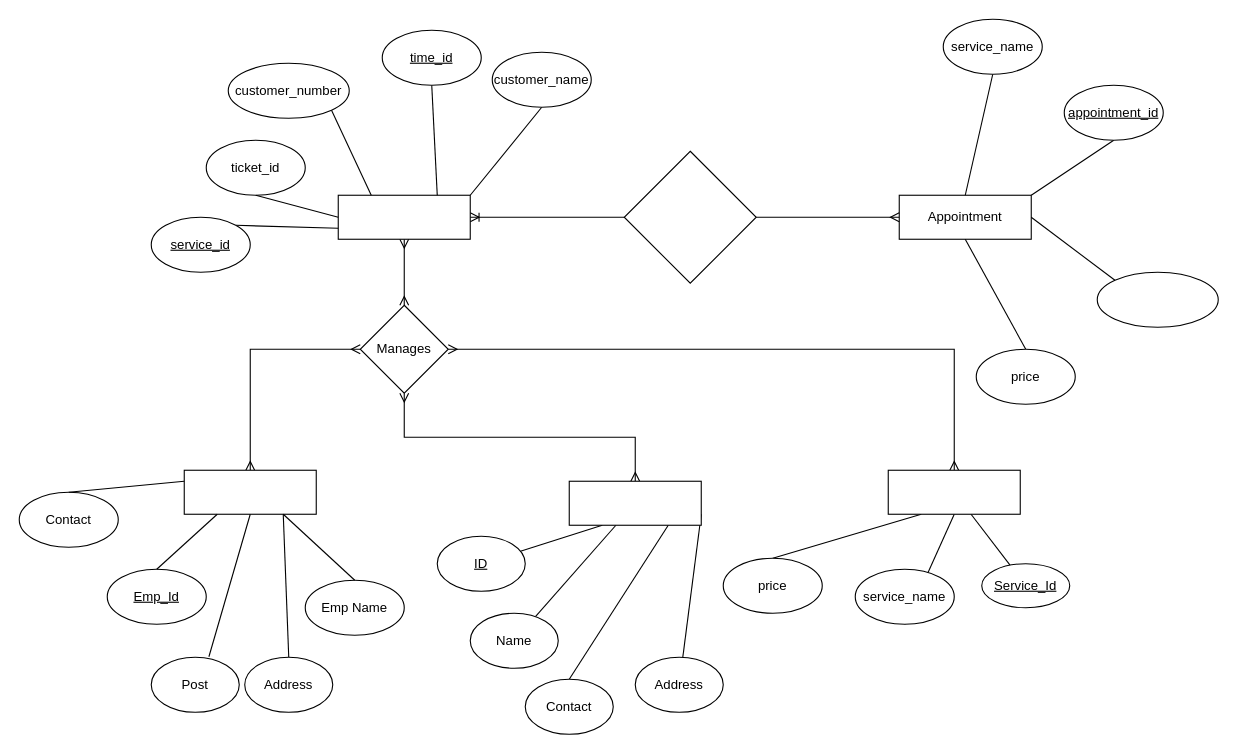
Some shapes in this 1238 by 754 pixel diagram are drawn without their labels. The shapes that lost their labels are listed below. From the top down, each one's centre as x and y in pixels, then its label:
At (403,216): "User".
At (689,216): "Books".
At (1157,299): "appointment_time".
At (249,491): "Employees".
At (634,502): "Customers".
At (953,491): "Services".
